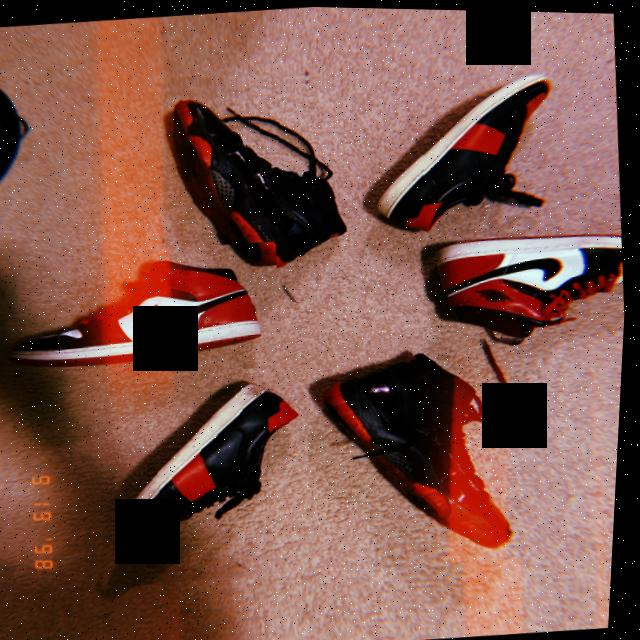shoe: (283, 321, 576, 576), (76, 358, 327, 592), (145, 63, 380, 282), (345, 54, 588, 248), (0, 235, 288, 383), (395, 206, 632, 351)
